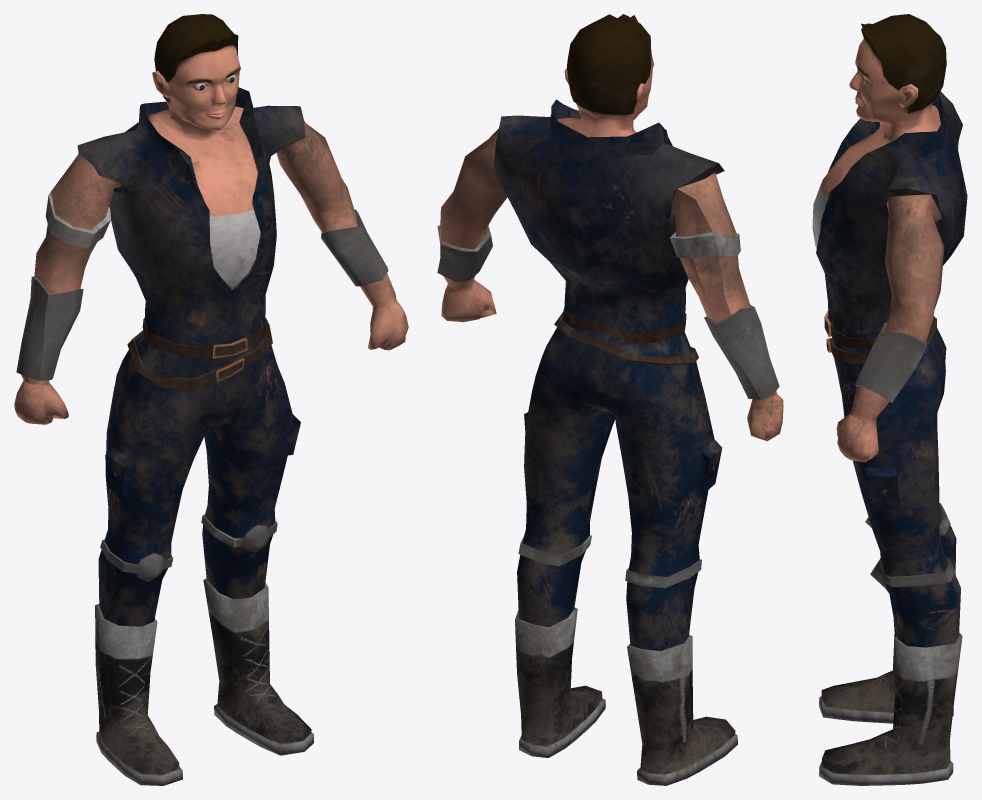
Rendered from Anim_idle_jugador.0017.obj.
3 renders of one model, left to right at view 1: azimuth 30°, elevation 25°; view 2: azimuth 150°, elevation 25°; view 3: azimuth 270°, elevation 25°, orthographic.
Parts seen in each view (by area): view 1: polySurface1; view 2: polySurface1; view 3: polySurface1.
Part boxes in pixels (x1,y1,x2,y2): polySurface1: (14,14,408,785); polySurface1: (437,14,783,785); polySurface1: (812,14,967,785).
Size of the model in its own units: 5.06 by 9.64 by 1.86.
